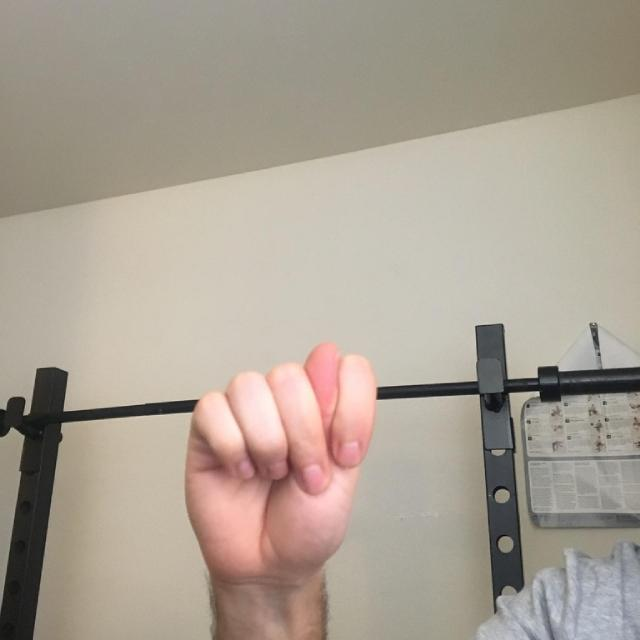T: (138, 307, 400, 598)
